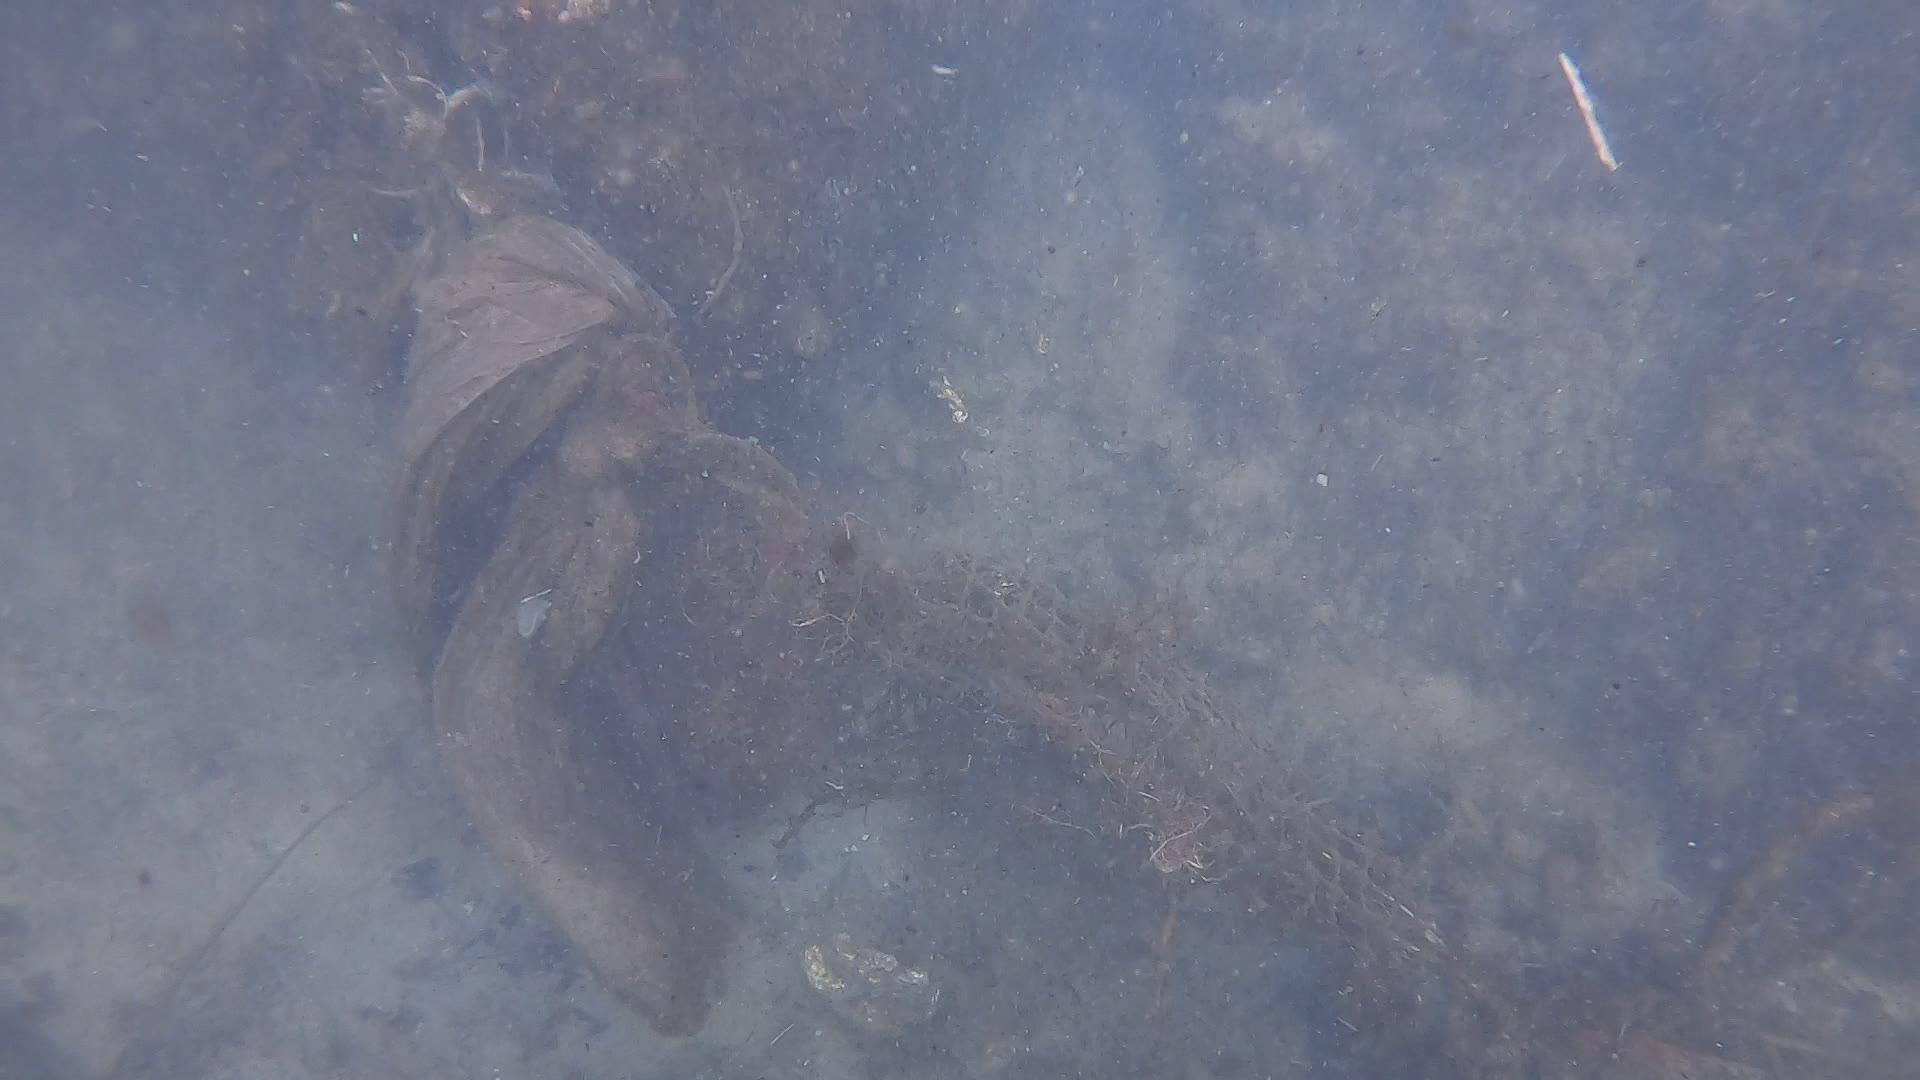fish net: (572, 433, 1484, 1006)
wood: (426, 404, 713, 1039)
